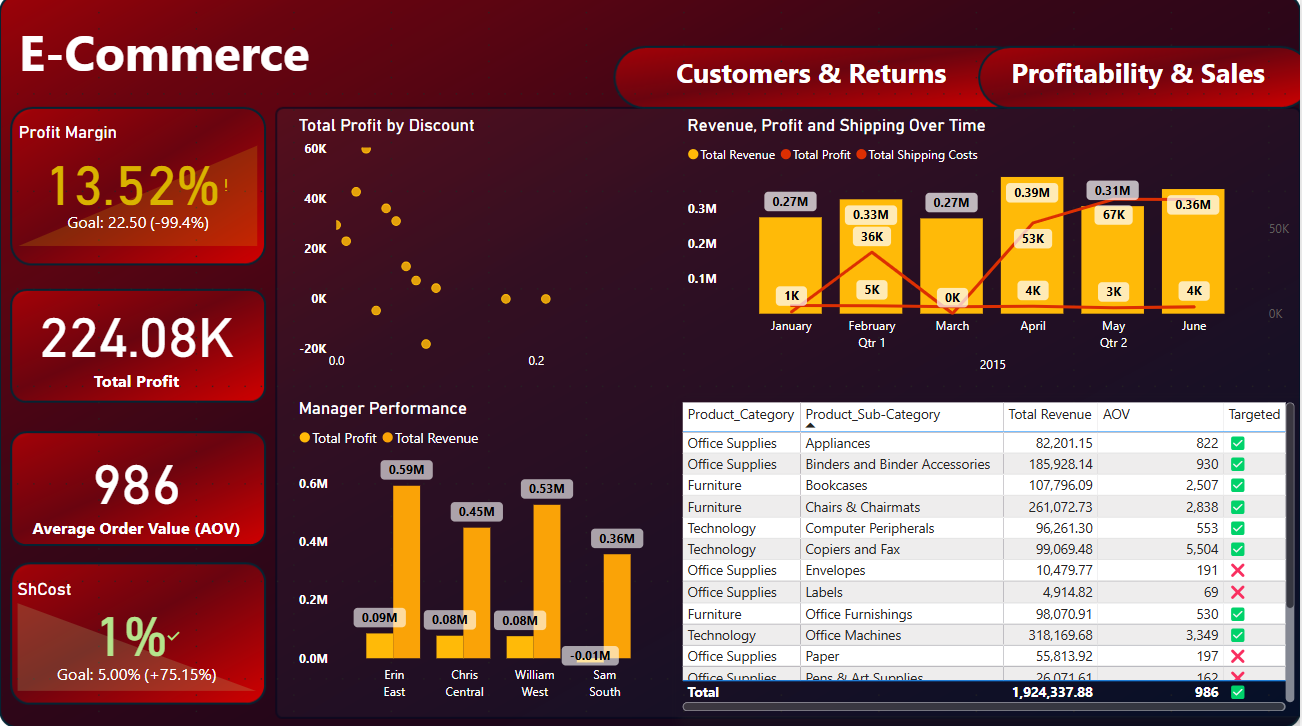

Layout of this report page (visuals, bound fields, positions):
{"tool":"powerbi","page":{"name":"Profitability & Sales Performance raw","canvas":[1280,720],"ordinal":0},"visuals":[{"type":"lineClusteredColumnComboChart","title":"Revenue, Profit and Shipping Over Time","fields":{"Y":["_Measures.Total Revenue"],"Y2":["_Measures.Total Profit","_Measures.Total Shipping Costs"],"Category":["Calender.Date.Variation.Date Hierarchy.Year","Calender.Date.Variation.Date Hierarchy.Quarter","Calender.Date.Variation.Date Hierarchy.Month"]},"box":[672,118.2,604.4,267.8],"z":0},{"type":"card","fields":{"Values":["_Measures.Total Profit"]},"box":[12.2,275.1,244.6,130.8],"z":1000},{"type":"card","fields":{"Values":["_Measures.Average Order Value (AOV)"]},"box":[12.2,422.3,244.6,128.4],"z":2000},{"type":"kpi","title":"Profit Margin","fields":{"Indicator":["_Measures.Profit Margin"],"Goal":["_Measures.Profit Margin Target"],"TrendLine":["Calender.Month"]},"box":[13.5,124.3,244.9,128],"z":3000},{"type":"clusteredColumnChart","title":"Manager Performance","fields":{"Category":["Invoices.Region","AreaManagers.Manager"],"Y":["_Measures.Total Profit","_Measures.Total Revenue"]},"box":[289.8,396.2,366.8,311.8],"z":4000},{"type":"tableEx","fields":{"Values":["Products.Product_Category","Products.Product_Sub-Category","_Measures.Total Revenue","_Measures.Average Order Value (AOV)","_Measures.Total Revenue Status"]},"box":[666,395.7,614.1,313.7],"z":5000},{"type":"scatterChart","fields":{"X":["Invoices.Discount"],"Y":["_Measures.Total Profit"]},"box":[289.5,118.2,349.9,260.6],"z":6000},{"type":"kpi","title":"ShCost ","fields":{"Indicator":["_Measures.ShCost from Revenue"],"TrendLine":["Calender.Month"],"Goal":["_Measures.Shcost target"]},"box":[12.3,574.8,244.9,115.7],"z":7000},{"type":"textbox","box":[13.5,18.5,500.9,73.8],"z":8000},{"type":"textbox","box":[638.8,52.9,320,57.8],"z":9000},{"type":"textbox","box":[976,52.9,300.3,51.7],"z":10000},{"type":"actionButton","box":[621.5,55.4,337.2,49.2],"z":11000},{"type":"actionButton","box":[973.5,57.8,302.8,46.8],"z":12000}]}

Visuals, with their boxes in screenshot pixels (x1, y1, x2, y2), scaled from the page's 1280x720 canvas onto the 1302x726 screenshot:
"Revenue, Profit and Shipping Over Time" lineClusteredColumnComboChart: bbox(684, 119, 1298, 389)
card - _Measures.Total Profit: bbox(12, 277, 261, 409)
card - _Measures.Average Order Value (AOV): bbox(12, 426, 261, 555)
"Profit Margin" kpi: bbox(14, 125, 263, 254)
"Manager Performance" clusteredColumnChart: bbox(295, 400, 668, 714)
tableEx - Products.Product_Category x Products.Product_Sub-Category: bbox(677, 399, 1301, 715)
scatterChart - Invoices.Discount x _Measures.Total Profit: bbox(294, 119, 650, 382)
"ShCost " kpi: bbox(13, 580, 262, 696)
textbox: bbox(14, 19, 523, 93)
textbox: bbox(650, 53, 975, 112)
textbox: bbox(993, 53, 1298, 105)
actionButton: bbox(632, 56, 975, 105)
actionButton: bbox(990, 58, 1298, 105)
